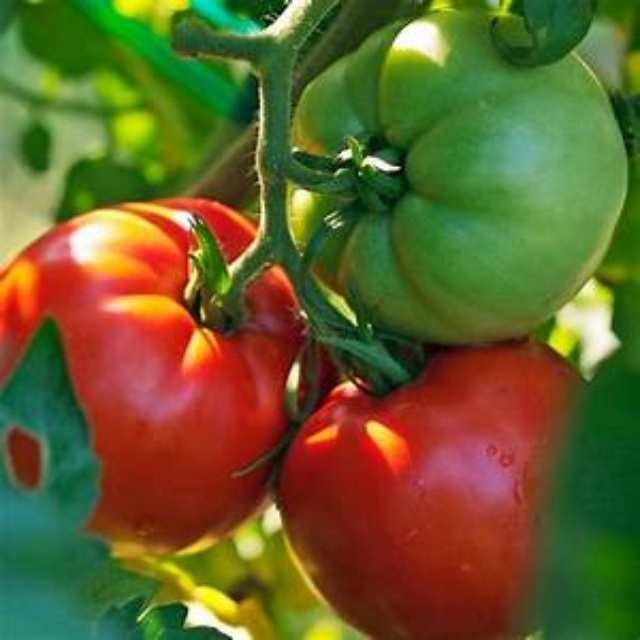tomato: (289, 15, 621, 345), (8, 204, 322, 548), (261, 351, 589, 635)
